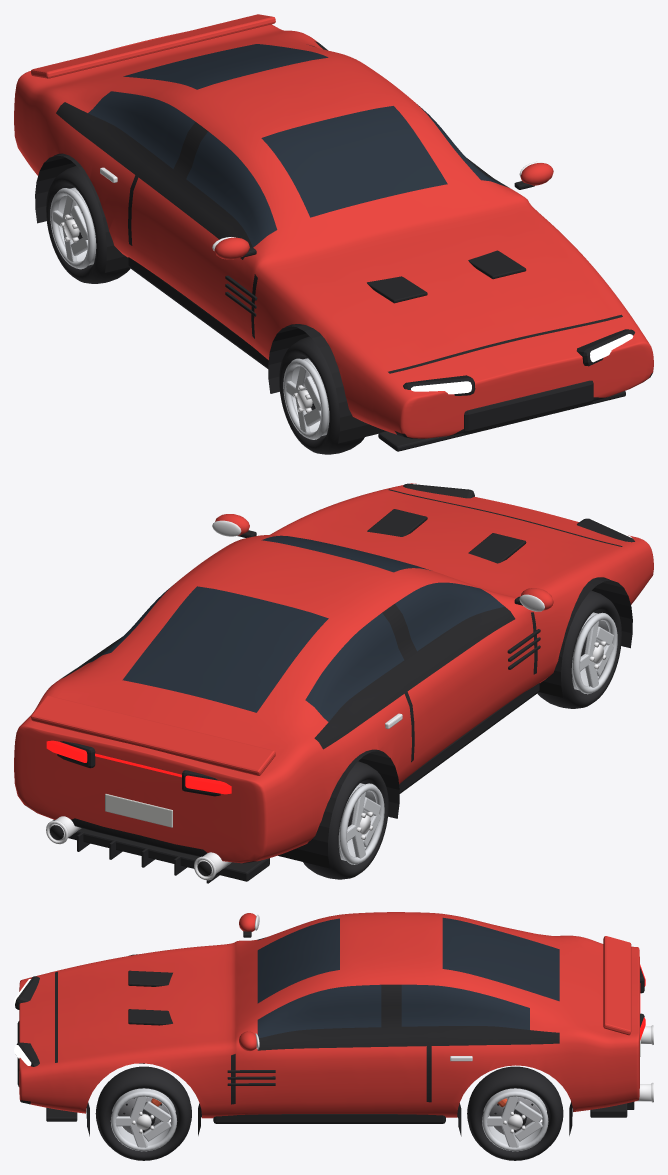
Rendered from lumen_mid.glb.
3 views of the same model, one above another, from view 1: azimuth 30°, elevation 25°; view 2: azimuth 150°, elevation 25°; view 3: azimuth 270°, elevation 25° (orthographic). The views are drawn at different scales.
Visible parts, largest first — view 1: body, wheel_fr, wheel_rr; view 2: body, wheel_rr, wheel_fr; view 3: body, wheel_fl, wheel_rl.
Part boxes in pixels (x1,y1,x2,y2): body: (14, 14, 653, 451); wheel_fr: (279, 336, 364, 454); wheel_rr: (46, 165, 130, 283); body: (14, 483, 653, 883); wheel_rr: (303, 761, 388, 879); wheel_fr: (537, 590, 621, 708); body: (14, 912, 653, 1136); wheel_fl: (95, 1066, 191, 1160); wheel_rl: (467, 1066, 563, 1160).
Bounding box in the file's own units: 2.19 × 1.32 × 4.52.
